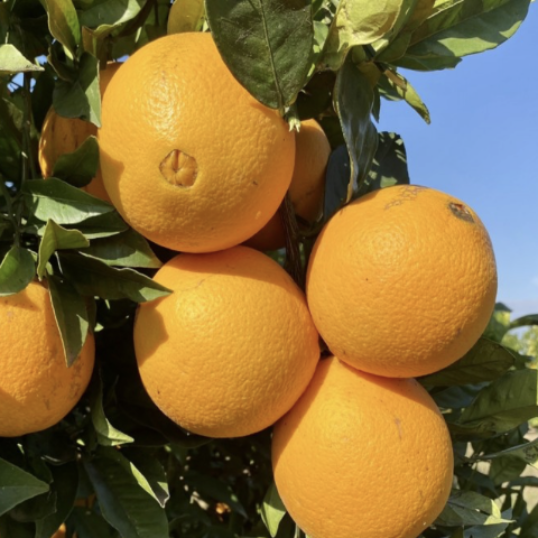orange: (90, 22, 318, 255), (244, 341, 477, 535), (118, 230, 325, 434), (306, 188, 519, 374)
